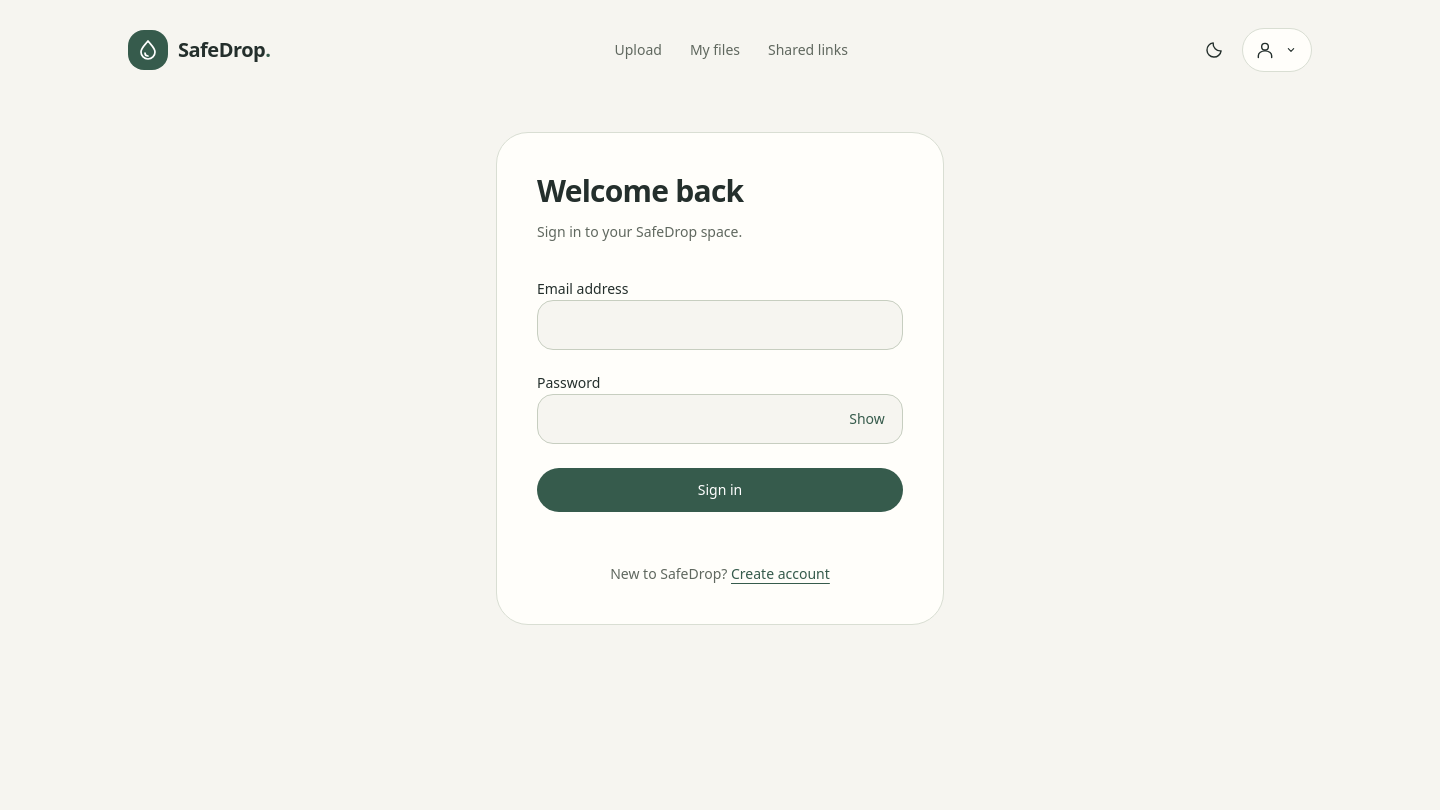
Test: shows the API's specific login error without leaving the form
The width and height of the screenshot is (1440, 810).
Type "person@example.com" into the field labelled "Email address". click: coordinates (720, 325)
box: [537,300,903,350]
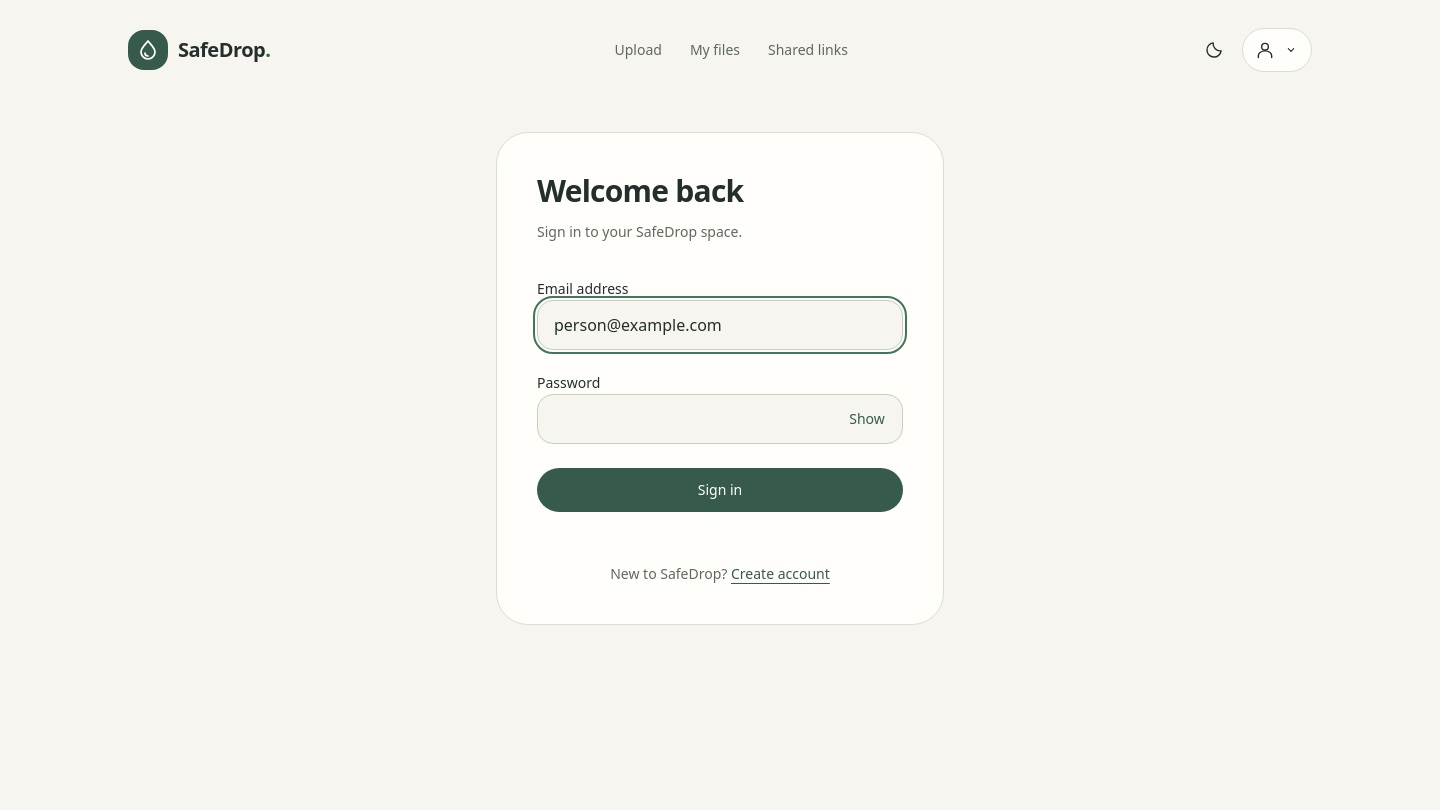
Type "a long unique passphrase" into the password field labelled "Password". click: coordinates (720, 419)
box: [537,394,903,444]
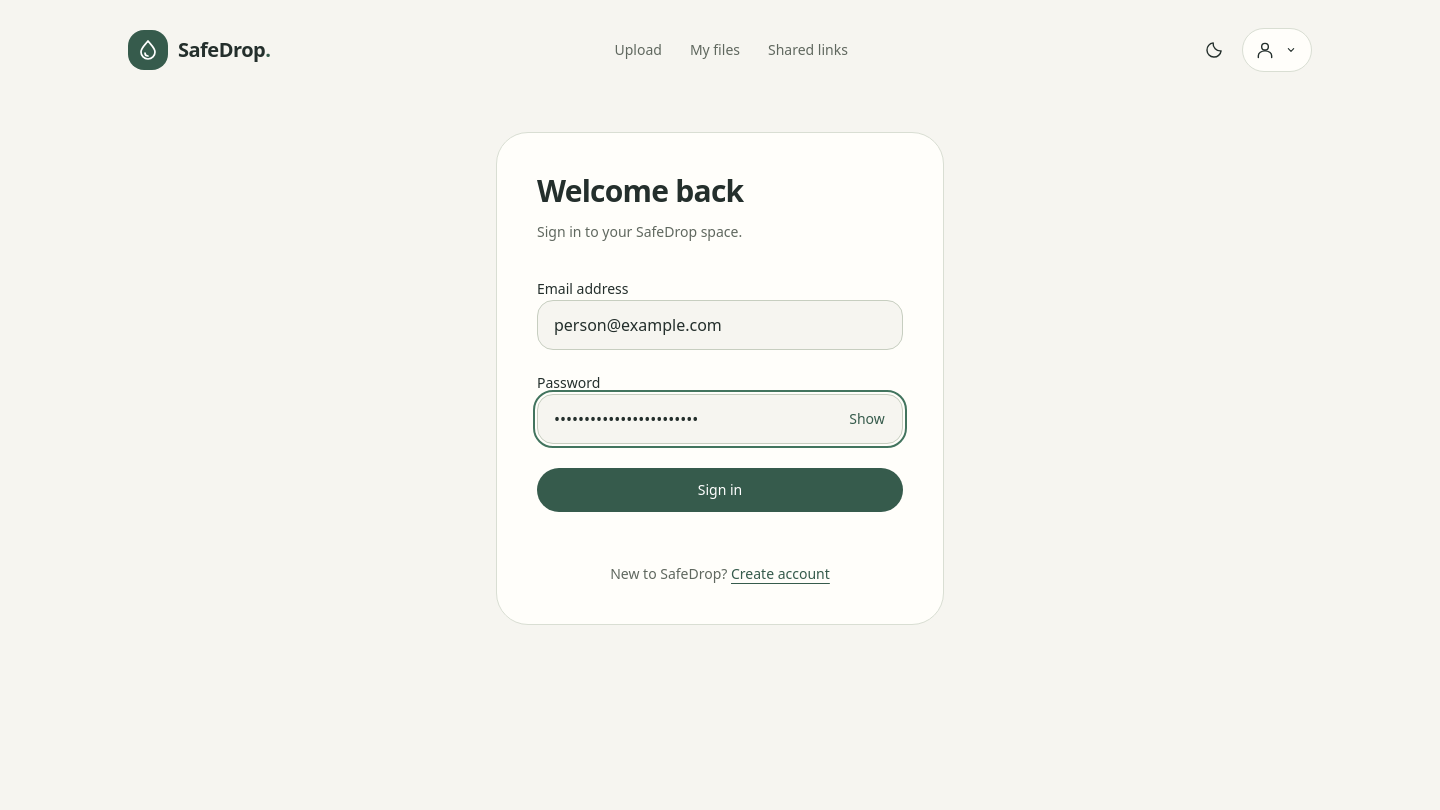
Click the button "Sign in". click: coordinates (720, 490)
box: [537,468,903,512]
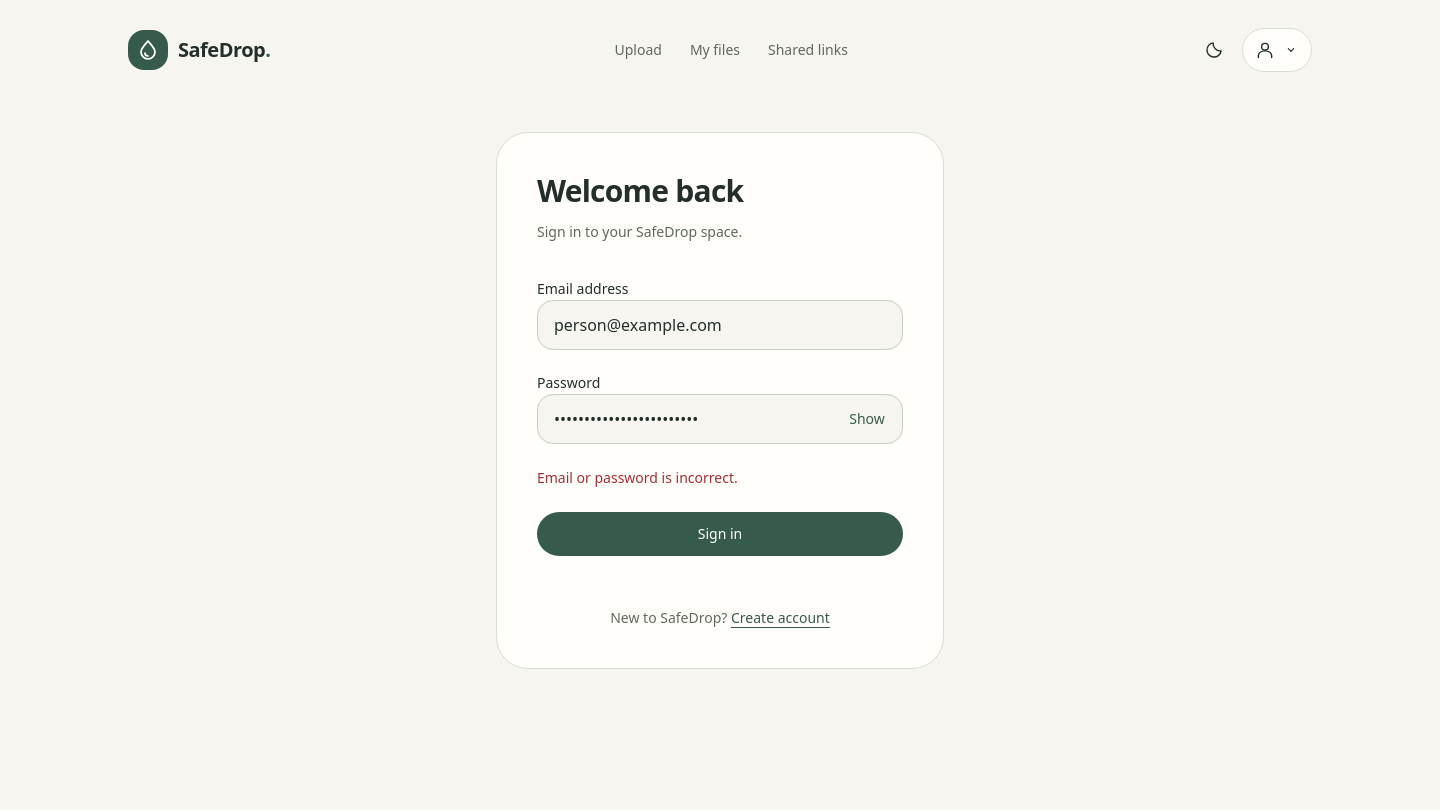
Expected: the button "Sign in" is enabled, [537,512,903,556]
Expected: the text "Email or password is incorrect." is shown, [537,468,738,487]
